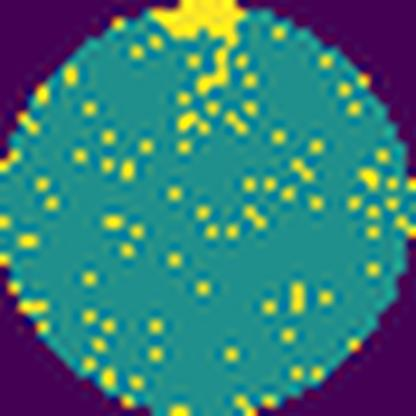Edge-Loc: (146, 0, 247, 49)
